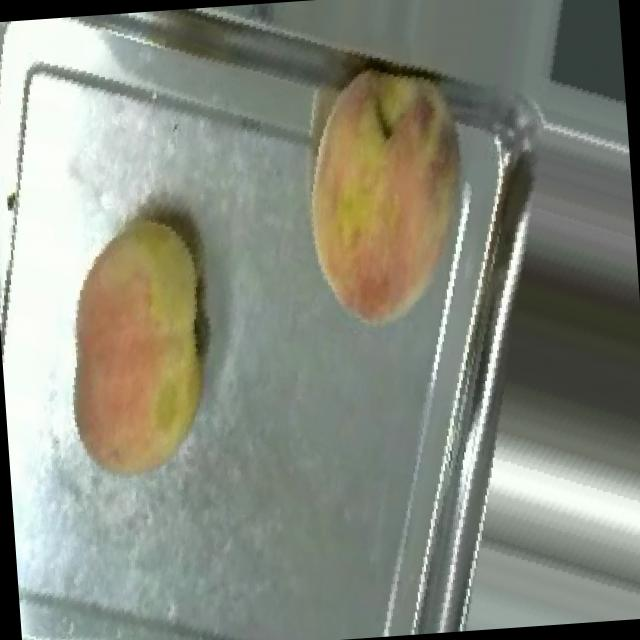Fruit: (260, 29, 518, 355), (32, 192, 255, 504)
